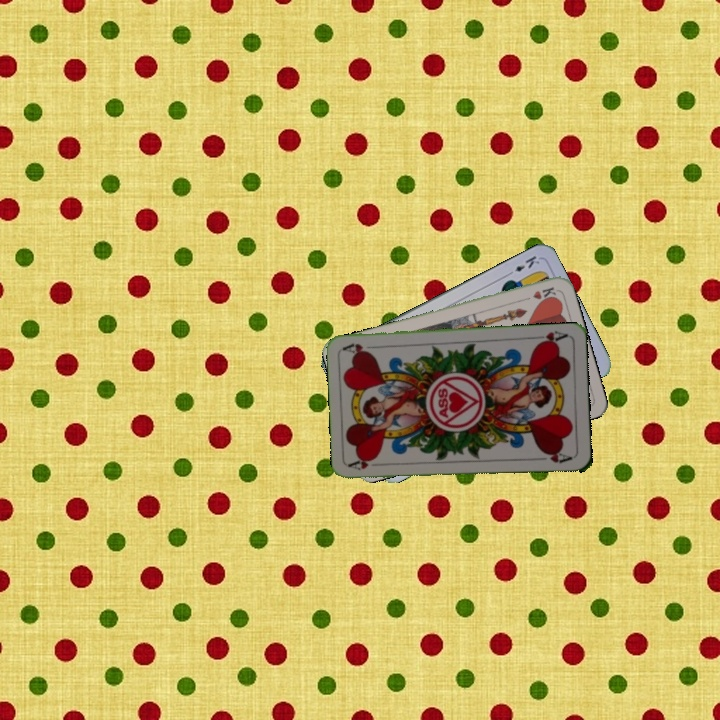EK: (503, 252, 542, 278)
HA: (529, 327, 570, 347), (346, 456, 387, 473)
HK: (518, 283, 558, 304)
